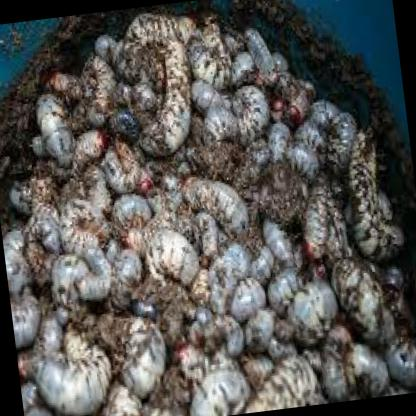root grubs: (32, 333, 111, 416), (181, 177, 247, 240), (143, 229, 196, 283)
